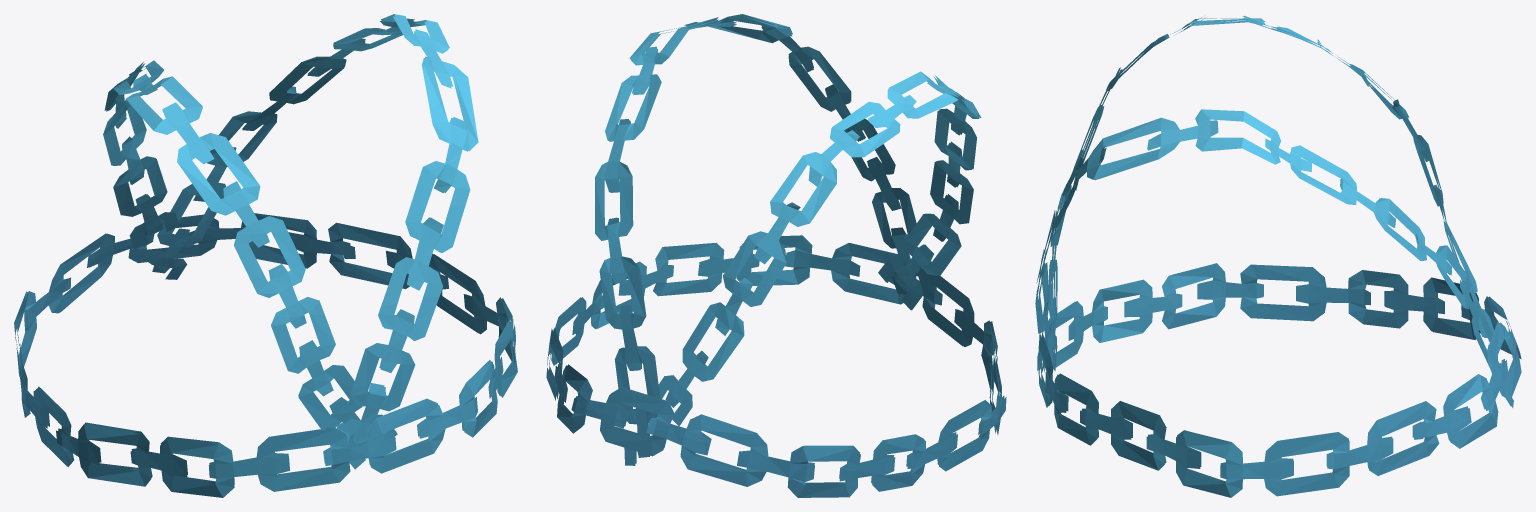
The model's file is CharSkyNPC_Horn_FatLaborChains.glb.
3 views of the same model, side by side, from view 1: azimuth 30°, elevation 25°; view 2: azimuth 150°, elevation 25°; view 3: azimuth 270°, elevation 25° (orthographic). The views are drawn at different scales.
Parts seen in each view (by area): view 1: CharSkyNPC_Horn_FatLaborChains; view 2: CharSkyNPC_Horn_FatLaborChains; view 3: CharSkyNPC_Horn_FatLaborChains.
Part boxes in pixels (left/top/right/bottom): CharSkyNPC_Horn_FatLaborChains: left=14, top=14, right=517, bottom=497; CharSkyNPC_Horn_FatLaborChains: left=546, top=14, right=1006, bottom=497; CharSkyNPC_Horn_FatLaborChains: left=1035, top=15, right=1521, bottom=497.
Size of the model in its own units: 4.94 by 4.1 by 5.08.
1 material, 1 textured.
